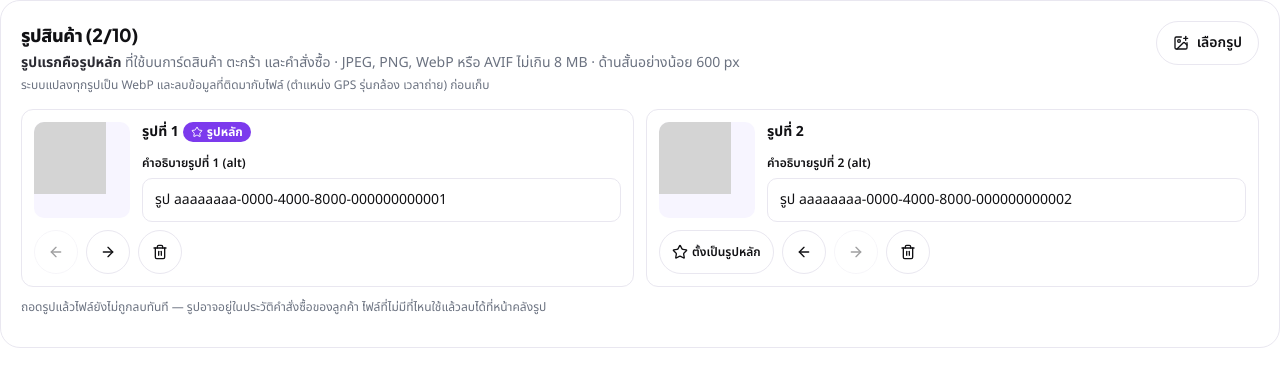
Scenario: ProductImageManager — รูปสินค้า (STEP 47) › ถอดรูปต้องกดยืนยันก่อน
The image size is (1280, 385).
Click the button named "ถอดรูปที่ 2" at (908, 252), box [886, 230, 930, 274]
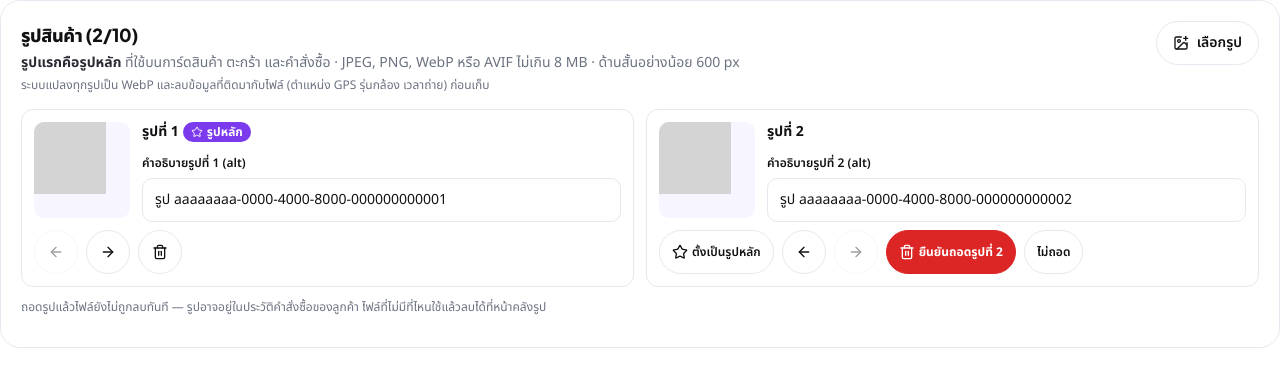
Click the button "ยืนยันถอดรูปที่ 2" at (951, 252), box [886, 230, 1016, 274]
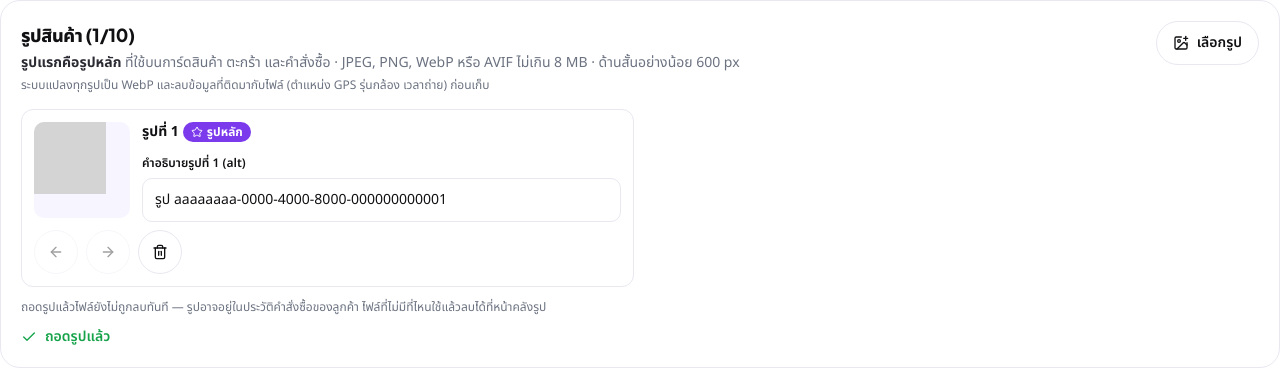
Result: the text "ถอดรูปแล้ว" is shown at [21, 326, 110, 347]
